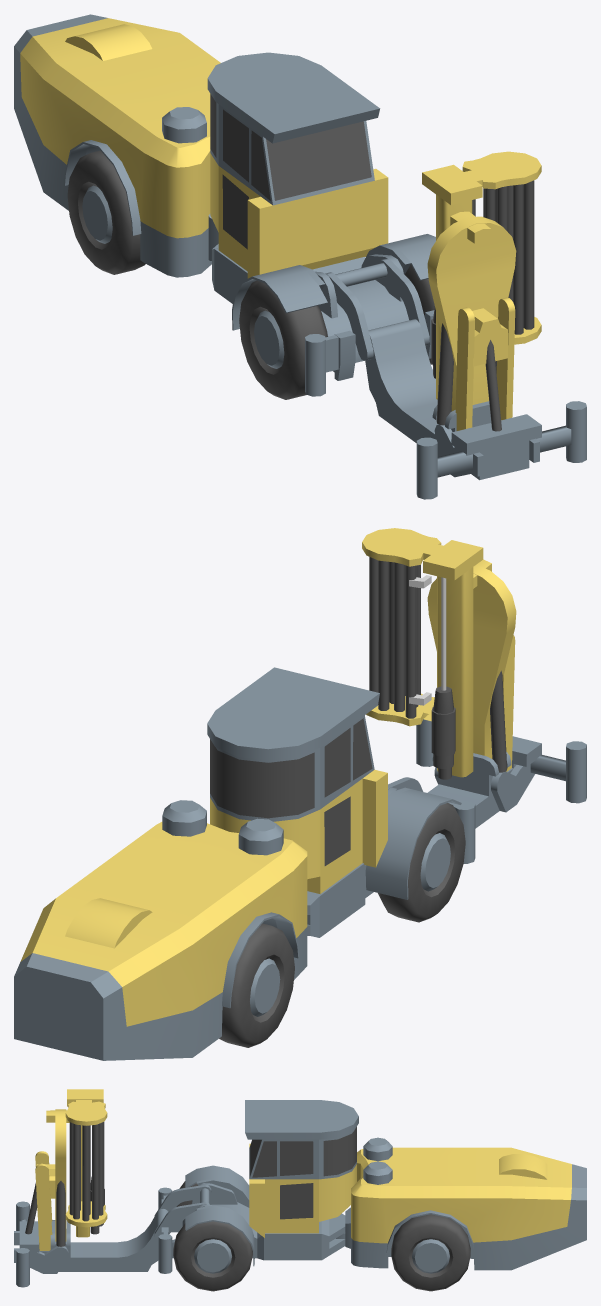
File: Simba_2k_v.fbx
The picture shows the model from 3 angles, top to bottom: view 1: azimuth 30°, elevation 25°; view 2: azimuth 150°, elevation 25°; view 3: azimuth 270°, elevation 25°; orthographic projection. The views are drawn at different scales.
Parts seen in each view (by area): view 1: Simba; view 2: Simba; view 3: Simba.
Part boxes in pixels (x1=…): Simba: x1=14, y1=14, x2=586, y2=499; Simba: x1=14, y1=528, x2=586, y2=1060; Simba: x1=14, y1=1089, x2=586, y2=1291.
Bounding box in the file's own units: 239 × 352 × 1061.
